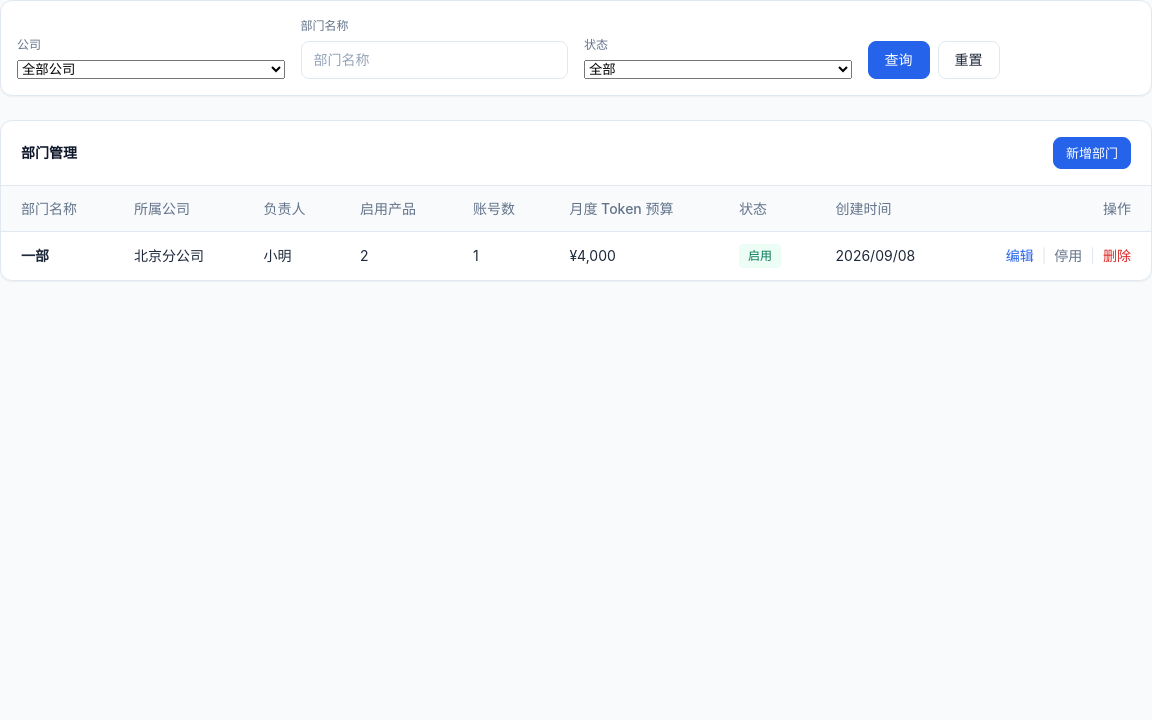
Test case: AdminDepartmentsView › 删除需确认，成功刷新列表，关联限制说明留在弹层并保留记录
The image size is (1152, 720).
Step 1. Click the button with test id "department-delete-一部" → point(1117, 256), box 1103,245 -> 1131,266
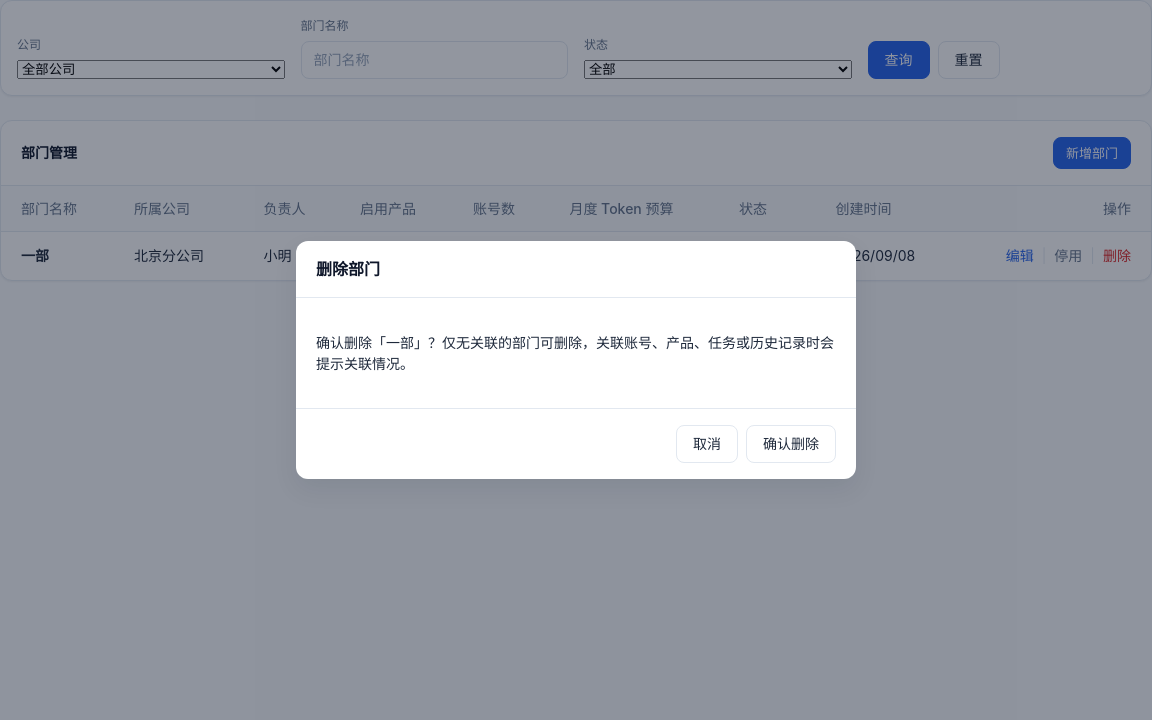
Step 2. Click the button with test id "department-delete-confirm" → point(791, 444), box 746,425 -> 836,463
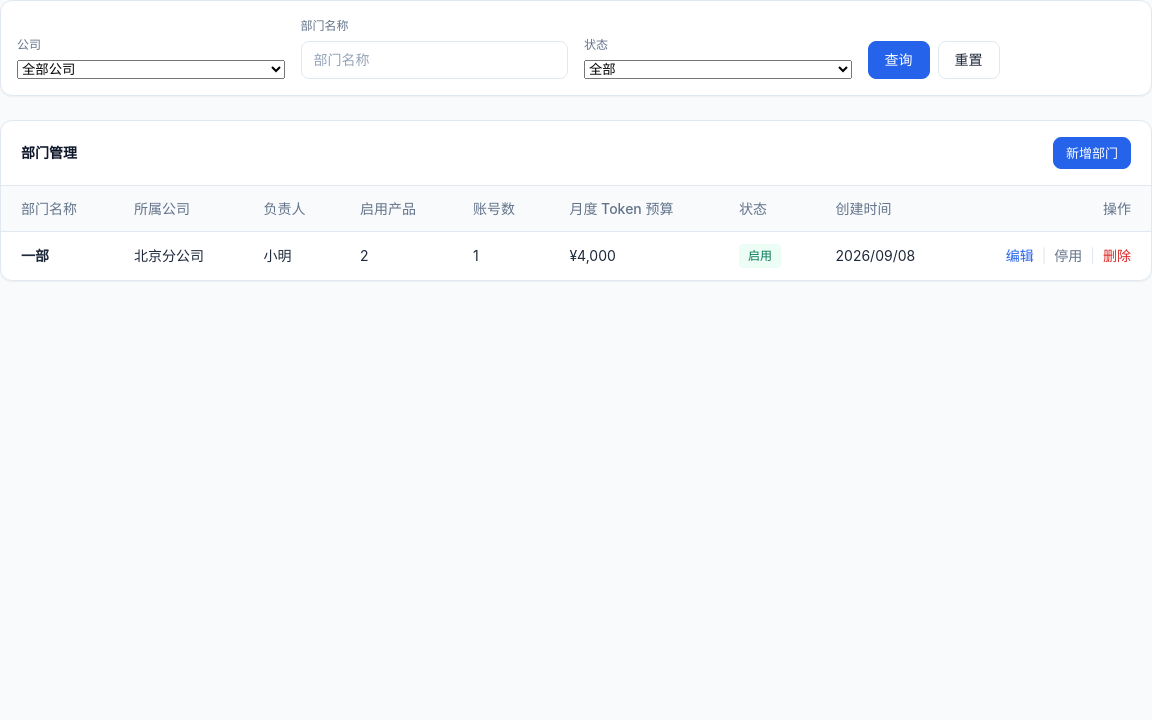
Step 3. Click the button with test id "department-delete-一部" → point(1117, 256), box 1103,245 -> 1131,266
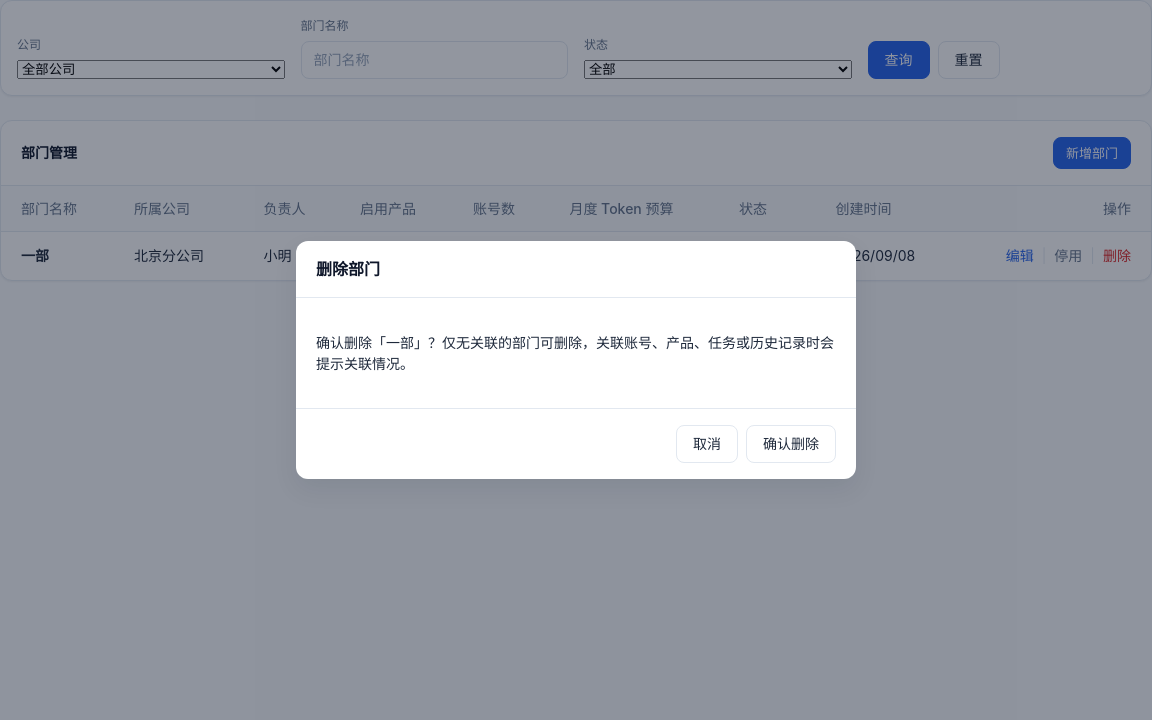
Step 4. Click the button with test id "department-delete-confirm" → point(791, 444), box 746,425 -> 836,463
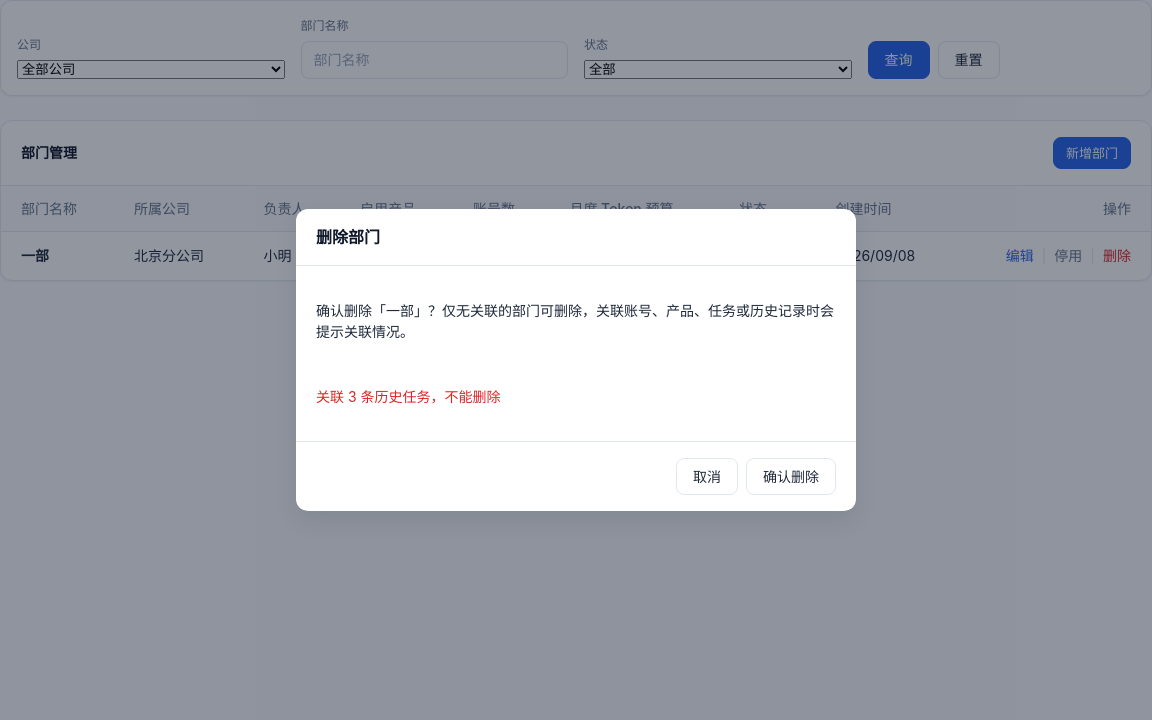
Expected: the row with test id "department-row-一部" is shown, 1,231 -> 1151,280
Expected: the element with test id "department-delete-modal" shows "关联 3 条历史任务", 316,388 -> 500,405
